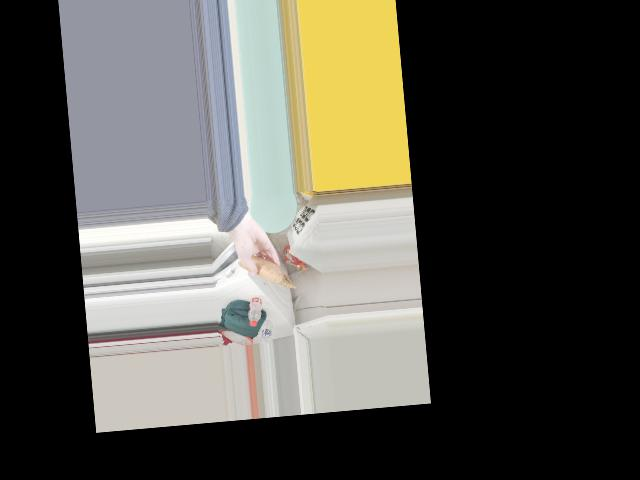sweet_potato: (246, 254, 282, 284)
